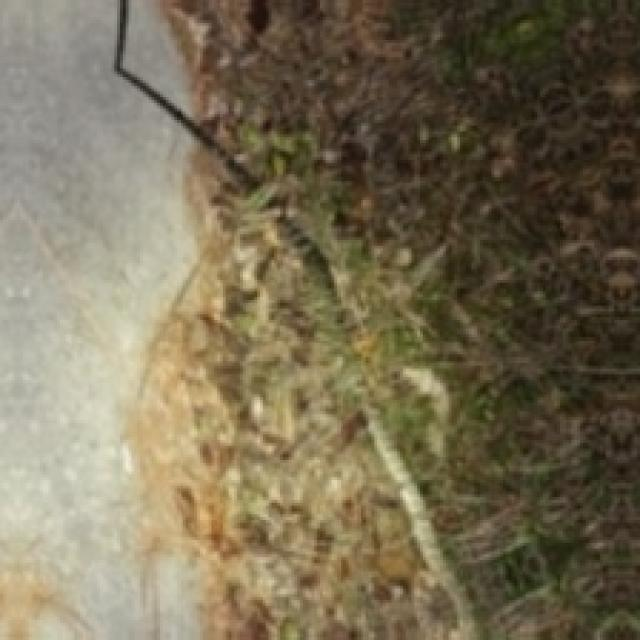king cobra: (137, 154, 474, 637), (171, 9, 271, 154)
